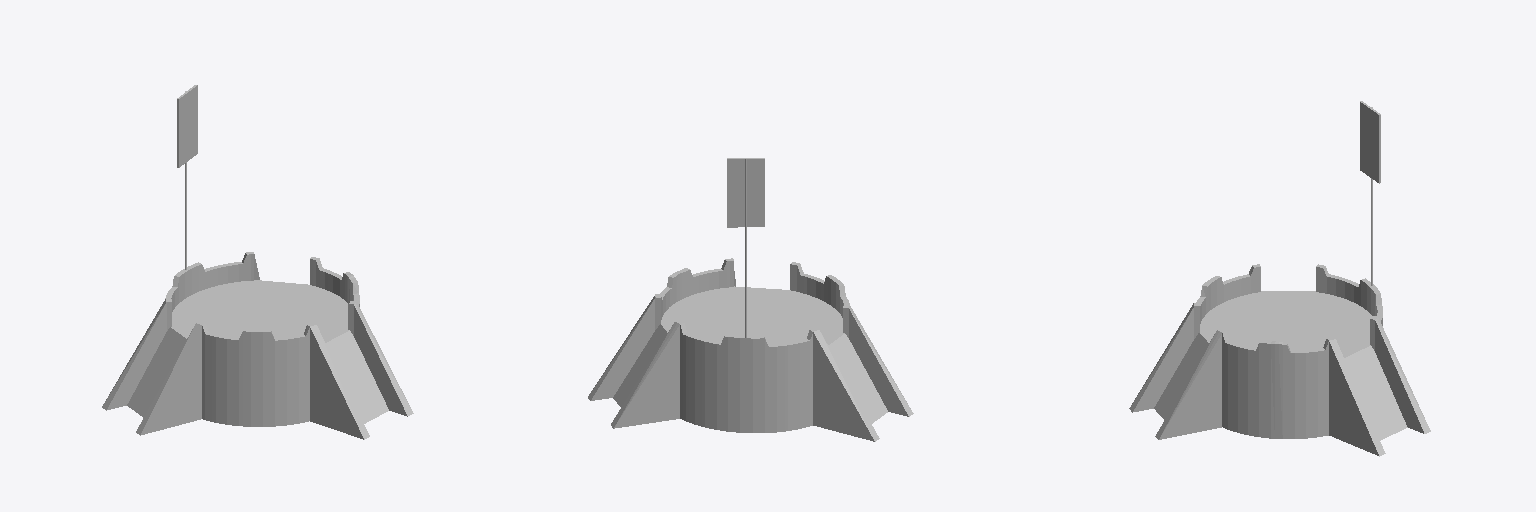
The model's file is teleporteur.obj.
3 views of the same model, side by side, from view 1: azimuth 30°, elevation 25°; view 2: azimuth 150°, elevation 25°; view 3: azimuth 270°, elevation 25° (orthographic).
Visible parts, largest first — view 1: teleporteur; view 2: teleporteur; view 3: teleporteur.
Boxes of the visible parts, box(x1,y1,x2,y2) form: teleporteur: box(102, 85, 413, 439); teleporteur: box(588, 158, 913, 441); teleporteur: box(1129, 101, 1430, 456).
Bounding box in the file's own units: 1 × 1 × 1.